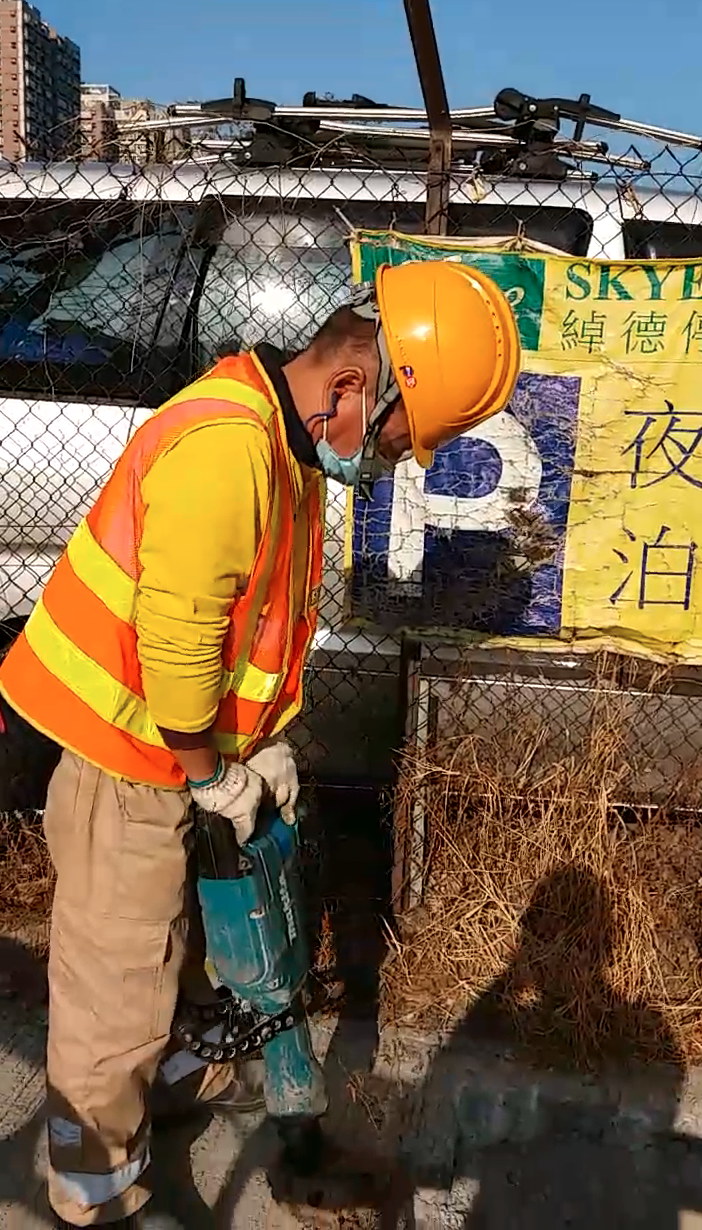Hard Hat: (321, 264, 520, 466)
Person: (16, 265, 517, 1225)
Vest: (17, 351, 325, 789)
